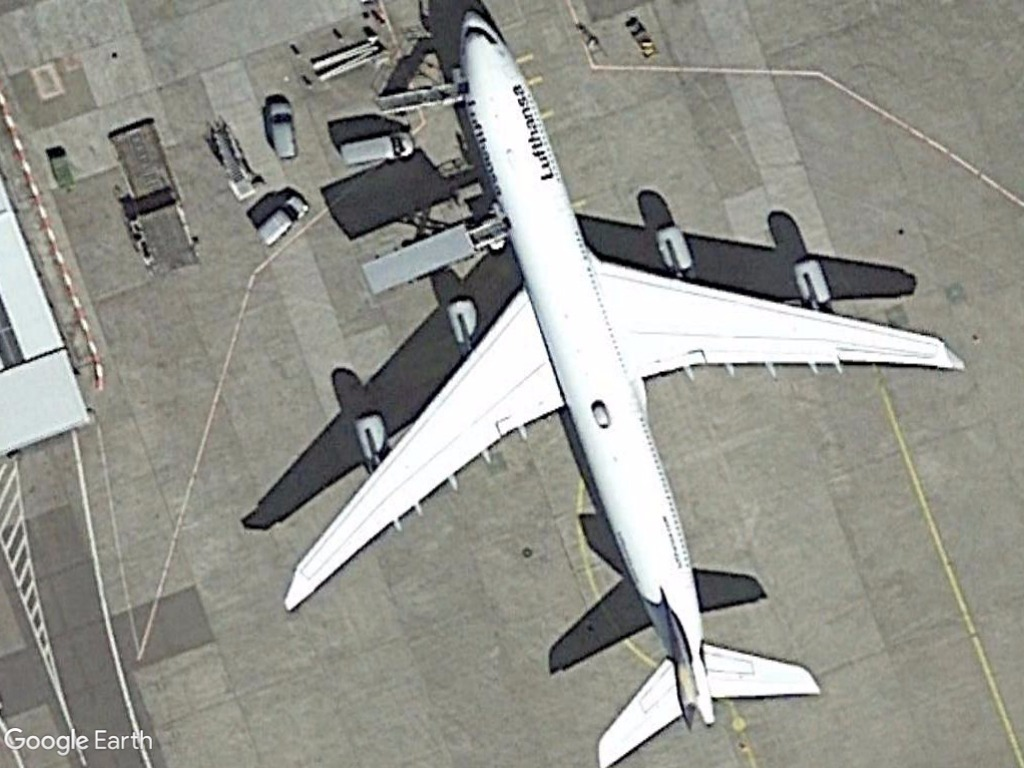airliner: (269, 5, 986, 762)
van: (324, 123, 432, 177), (244, 192, 317, 250), (257, 92, 304, 168)
